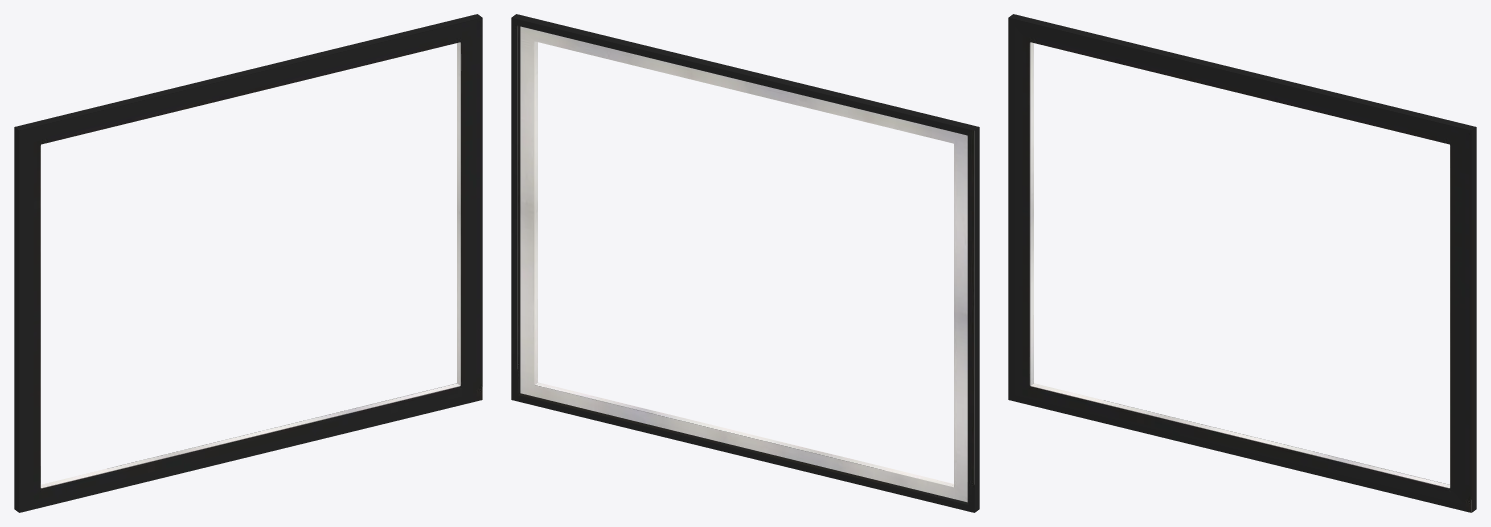
The model's file is frame4.glb.
3 renders of one model, left to right at view 1: azimuth 30°, elevation 25°; view 2: azimuth 150°, elevation 25°; view 3: azimuth 330°, elevation 25°, orthographic.
Parts seen in each view (by area): view 1: Frame4; view 2: Frame4; view 3: Frame4.
Part boxes in pixels (x1,y1,x2,y2): Frame4: [14, 14, 482, 512]; Frame4: [511, 14, 979, 512]; Frame4: [1008, 14, 1476, 512].
Bounding box in the file's own units: 5.23 × 4.12 × 0.0996.
2 materials, 2 textured.
